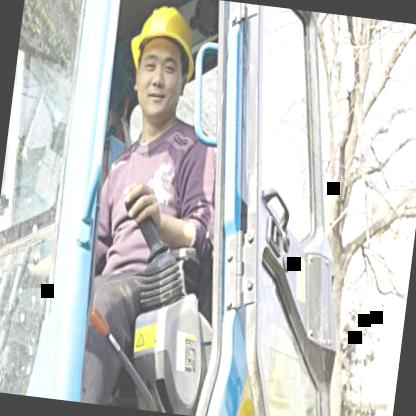helmet: (117, 0, 203, 130)
